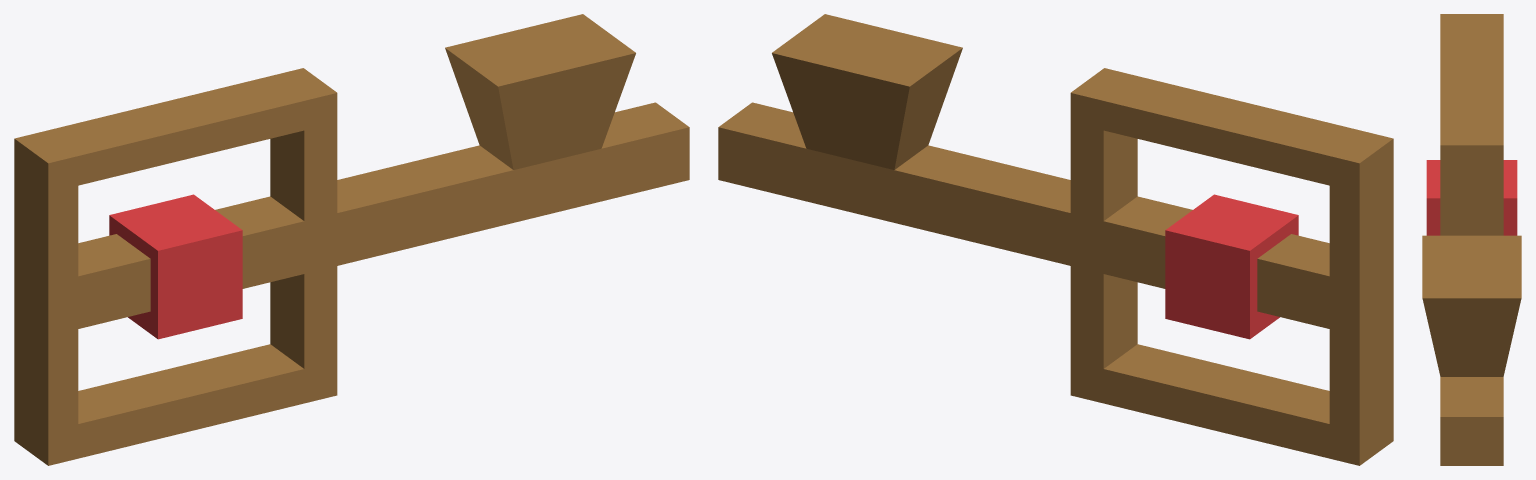
File: chave.fbx
3 views of the same model, side by side, from view 1: azimuth 30°, elevation 25°; view 2: azimuth 150°, elevation 25°; view 3: azimuth 270°, elevation 25° (orthographic). The views are drawn at different scales.
Parts seen in each view (by area): view 1: Cube; view 2: Cube; view 3: Cube.
Part boxes in pixels (x1,y1,x2,y2): Cube: (14,14,689,465); Cube: (718,14,1393,465); Cube: (1422,14,1521,465).
Bounding box in the file's own units: 249 × 112 × 35.75.
